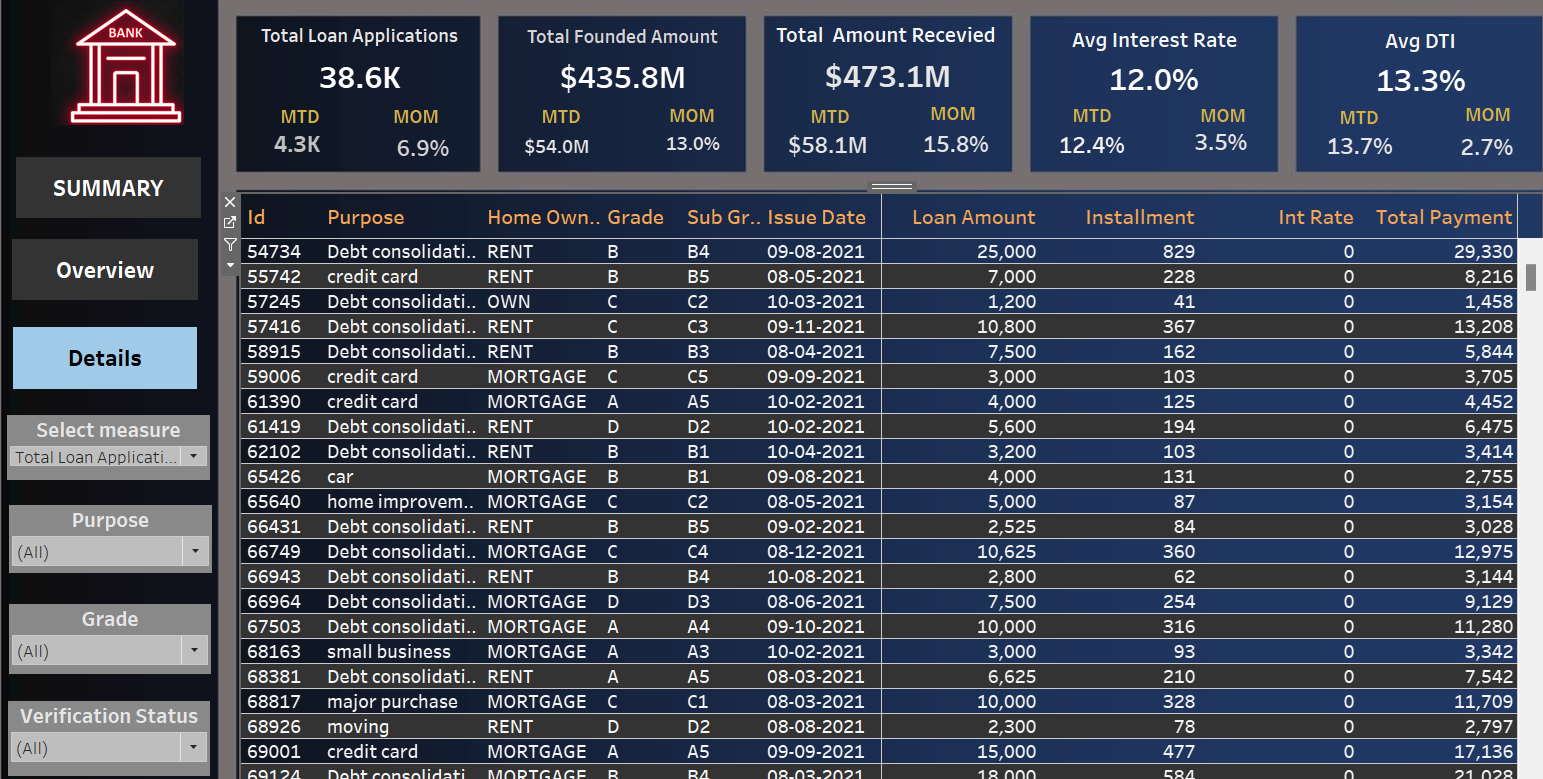

The page's visual inventory and layout, read from the dashboard file:
{"tool":"tableau","page":{"name":"DETAILS","canvas":[1600,900],"ordinal":0},"visuals":[{"type":"image","param":"C:/Users/shubh/Downloads/Tableau Background 3.jpg","box":[8,8,1584,884]},{"type":"text","box":[543,22,683,52]},{"type":"image","param":"C:/Users/shubh/AppData/Local/Temp/TableauTemp/0hymtln0cbm0fm11rm2qr07lnija/Sheet","box":[50,63,177,125]},{"type":"image","param":"C:/Users/shubh/AppData/Local/Temp/TableauTemp/034t8az0kxaurv15v09gl07rz0vm/Sheet","box":[56,80,177,125]},{"type":"image","param":"C:/Users/shubh/AppData/Local/Temp/TableauTemp/1xp0lgj04p5mr0170uefu08eqe1u/Sheet","box":[47,87,177,125]},{"type":"worksheet","title":"Total  Amount Recevied ","mark":"Automatic","box":[792,96,246,74]},{"type":"worksheet","title":"Total Loan Applications","mark":"Automatic","box":[264,98,245,75]},{"type":"worksheet","title":"Total Founded Amount","mark":"Automatic","box":[527,99,245,74]},{"type":"worksheet","title":"Avg Interest Rate","mark":"Automatic","box":[1063,101,237,70]},{"type":"worksheet","title":"Avg DTI","mark":"Automatic","box":[1328,102,239,70]},{"type":"text","box":[927,183,102,20]},{"type":"text","box":[1462,184,102,20]},{"type":"text","box":[666,185,102,20]},{"type":"text","box":[1066,185,102,20]},{"type":"text","box":[1197,185,102,20]},{"type":"text","box":[274,186,102,20]},{"type":"text","box":[390,186,102,20]},{"type":"text","box":[535,186,102,20]},{"type":"text","box":[804,186,102,20]},{"type":"text","box":[1333,187,102,20]},{"type":"worksheet","title":"MTD  Avg IR","mark":"Automatic","box":[1076,200,85,48]},{"type":"worksheet","title":"MTD total l A","mark":"Automatic","box":[287,202,73,41]},{"type":"worksheet","title":"MOM Avg IR","mark":"Automatic","box":[1206,202,83,37]},{"type":"worksheet","title":"MTD TAR ","mark":"Automatic","box":[798,203,113,42]},{"type":"worksheet","title":"MOM TAR","mark":"Automatic","box":[934,203,97,40]},{"type":"worksheet","title":"MTD TFA","mark":"Automatic","box":[539,204,89,43]},{"type":"worksheet","title":"MOM T founded amounts","mark":"Automatic","box":[686,204,67,37]},{"type":"worksheet","title":"MTD  Avg DTI","mark":"Automatic","box":[1338,204,97,42]},{"type":"worksheet","title":"MOM Avg DTI","mark":"Automatic","box":[1467,209,93,34]},{"type":"worksheet","title":"MOM LA","mark":"Automatic","box":[408,210,83,33]},{"type":"dashboard-object","box":[43,237,185,61]},{"type":"worksheet","title":"Details tab","mark":"Automatic","rows":["id","purpose","home_ownership","grade","sub_grade","issue_date"],"box":[268,274,1302,606]},{"type":"dashboard-object","box":[39,319,186,61]},{"type":"dashboard-object","box":[40,407,184,62]},{"type":"parameter","param":"[Parameters].[Parameter 1]","box":[34,495,203,65]},{"type":"filter","title":"Avg DTI","param":"[federated.1ejbcfz0zn1zyp1604vu70ptl5ki].[none:purpose:nk]","box":[36,585,203,68]},{"type":"filter","title":"Avg DTI","param":"[federated.1ejbcfz0zn1zyp1604vu70ptl5ki].[none:grade:nk]","box":[36,684,202,70]},{"type":"filter","title":"Avg DTI","param":"[federated.1ejbcfz0zn1zyp1604vu70ptl5ki].[none:verification_status:nk]","box":[35,781,202,75]}]}

Visuals, with their boxes on the page's 1600x900 design canvas (x1, y1, x2, y2). These are canvas units, not pixel positions in the 1543x779 screenshot, which may show the page scaled, cropped or inside an application window:
image: select_region(8, 8, 1592, 892)
text: select_region(543, 22, 1226, 74)
image: select_region(50, 63, 227, 188)
image: select_region(56, 80, 233, 205)
image: select_region(47, 87, 224, 212)
"Total  Amount Recevied " worksheet: select_region(792, 96, 1038, 170)
"Total Loan Applications" worksheet: select_region(264, 98, 509, 173)
"Total Founded Amount" worksheet: select_region(527, 99, 772, 173)
"Avg Interest Rate" worksheet: select_region(1063, 101, 1300, 171)
"Avg DTI" worksheet: select_region(1328, 102, 1567, 172)
text: select_region(927, 183, 1029, 203)
text: select_region(1462, 184, 1564, 204)
text: select_region(666, 185, 768, 205)
text: select_region(1066, 185, 1168, 205)
text: select_region(1197, 185, 1299, 205)
text: select_region(274, 186, 376, 206)
text: select_region(390, 186, 492, 206)
text: select_region(535, 186, 637, 206)
text: select_region(804, 186, 906, 206)
text: select_region(1333, 187, 1435, 207)
"MTD  Avg IR" worksheet: select_region(1076, 200, 1161, 248)
"MTD total l A" worksheet: select_region(287, 202, 360, 243)
"MOM Avg IR" worksheet: select_region(1206, 202, 1289, 239)
"MTD TAR " worksheet: select_region(798, 203, 911, 245)
"MOM TAR" worksheet: select_region(934, 203, 1031, 243)
"MTD TFA" worksheet: select_region(539, 204, 628, 247)
"MOM T founded amounts" worksheet: select_region(686, 204, 753, 241)
"MTD  Avg DTI" worksheet: select_region(1338, 204, 1435, 246)
"MOM Avg DTI" worksheet: select_region(1467, 209, 1560, 243)
"MOM LA" worksheet: select_region(408, 210, 491, 243)
dashboard-object: select_region(43, 237, 228, 298)
"Details tab" worksheet: select_region(268, 274, 1570, 880)
dashboard-object: select_region(39, 319, 225, 380)
dashboard-object: select_region(40, 407, 224, 469)
parameter: select_region(34, 495, 237, 560)
"Avg DTI" filter: select_region(36, 585, 239, 653)
"Avg DTI" filter: select_region(36, 684, 238, 754)
"Avg DTI" filter: select_region(35, 781, 237, 856)
